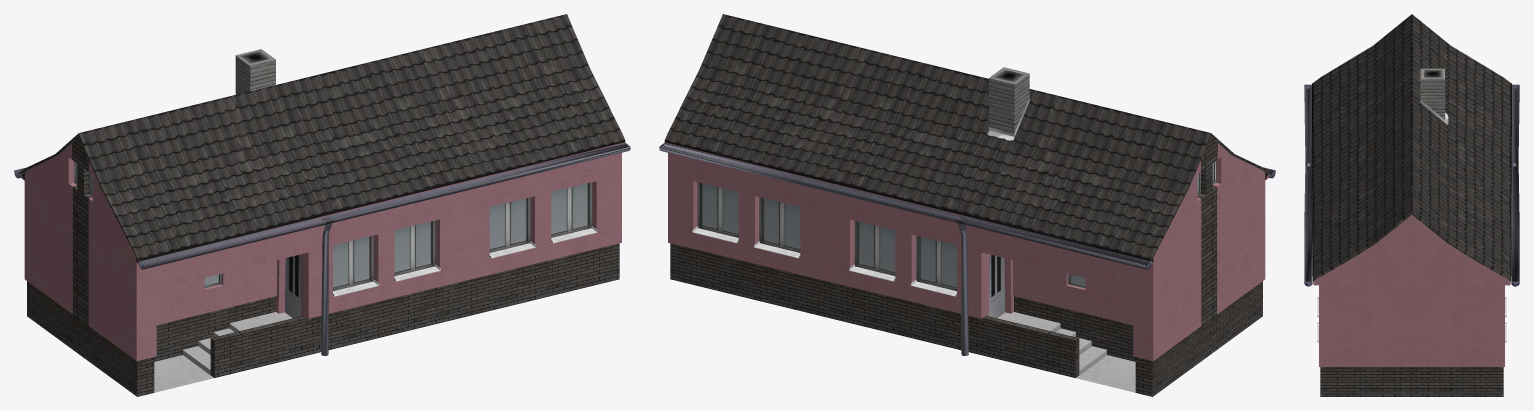
The model's file is sf-euhouse.glb.
The picture shows the model from 3 angles, left to right: view 1: azimuth 30°, elevation 25°; view 2: azimuth 150°, elevation 25°; view 3: azimuth 270°, elevation 25°; orthographic projection. The views are drawn at different scales.
Parts seen in each view (by area): view 1: House; view 2: House; view 3: House.
Part boxes in pixels (bbox=[...]): House: bbox=[14, 14, 630, 396]; House: bbox=[659, 14, 1275, 396]; House: bbox=[1304, 14, 1519, 396].
Bounding box in the file's own units: 15.67 × 7.5 × 7.21.
Materials: 2 (2 with a texture image).
